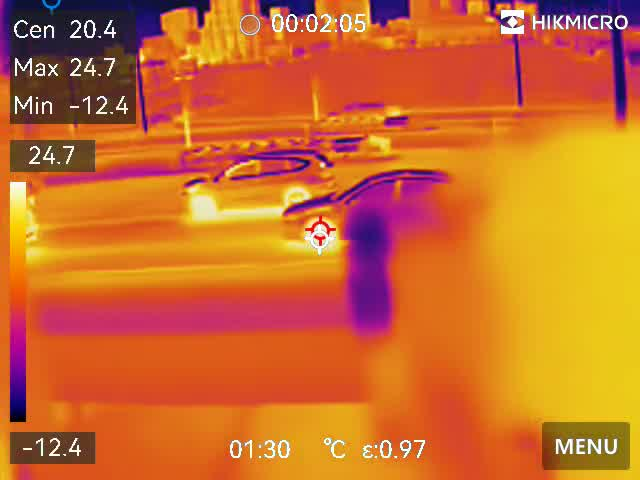largeCar: (172, 144, 343, 208)
smallCar: (283, 170, 457, 241)
